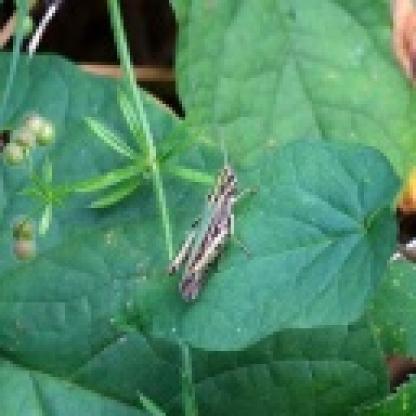grasshopper: (170, 147, 252, 310)
